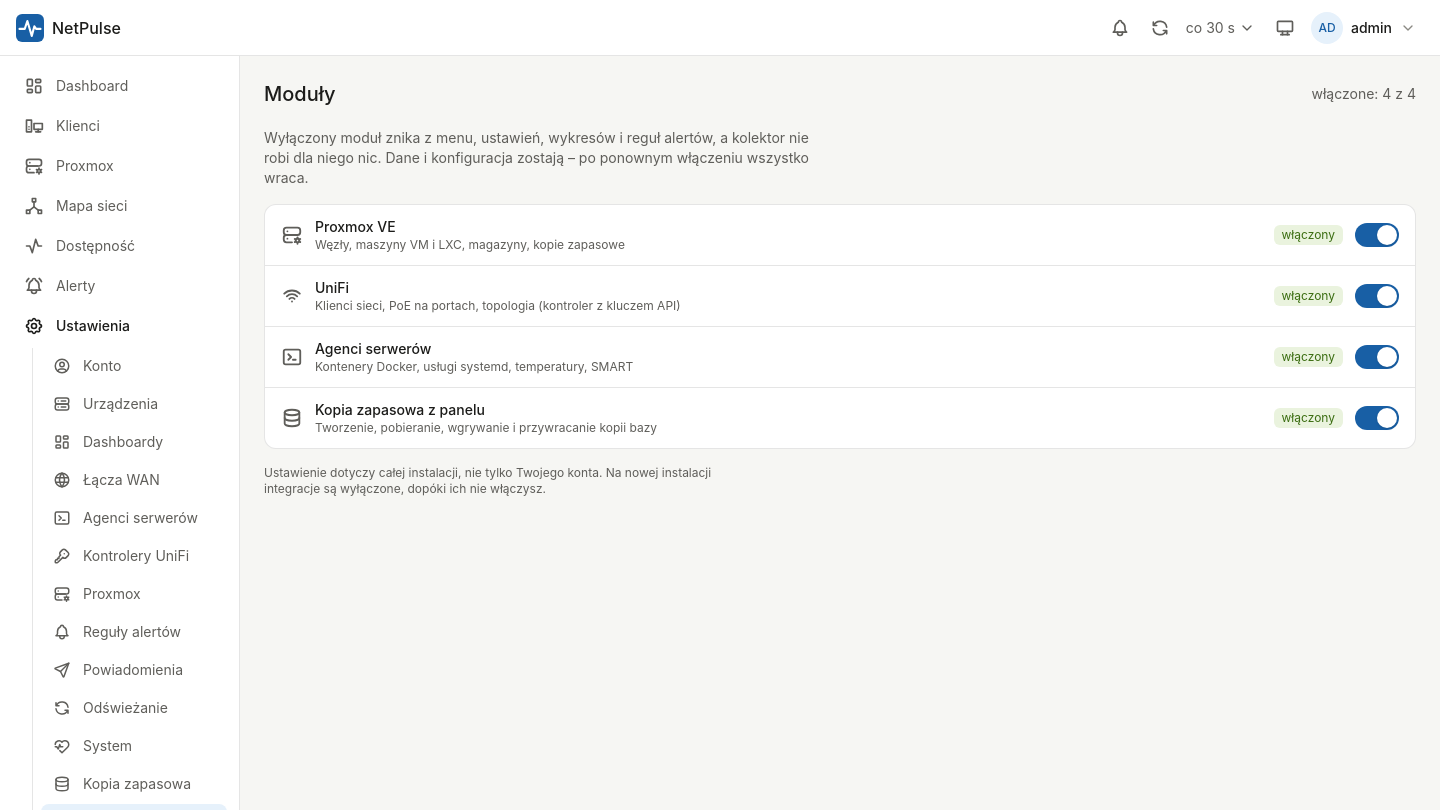
Test: Ustawienia → Moduły › wyłączenie modułu chowa jego pozycje w menu, a włączenie przywraca
This screenshot has width=1440, height=810.
Expected: the number of links "Proxmox" is 2, [24, 156, 114, 176]; [53, 585, 141, 603]
Expected: the text "włączone: 4 z 4" is shown, [1312, 84, 1416, 104]
Click the switch named "Proxmox VE" at (1377, 235), box [1355, 223, 1399, 247]
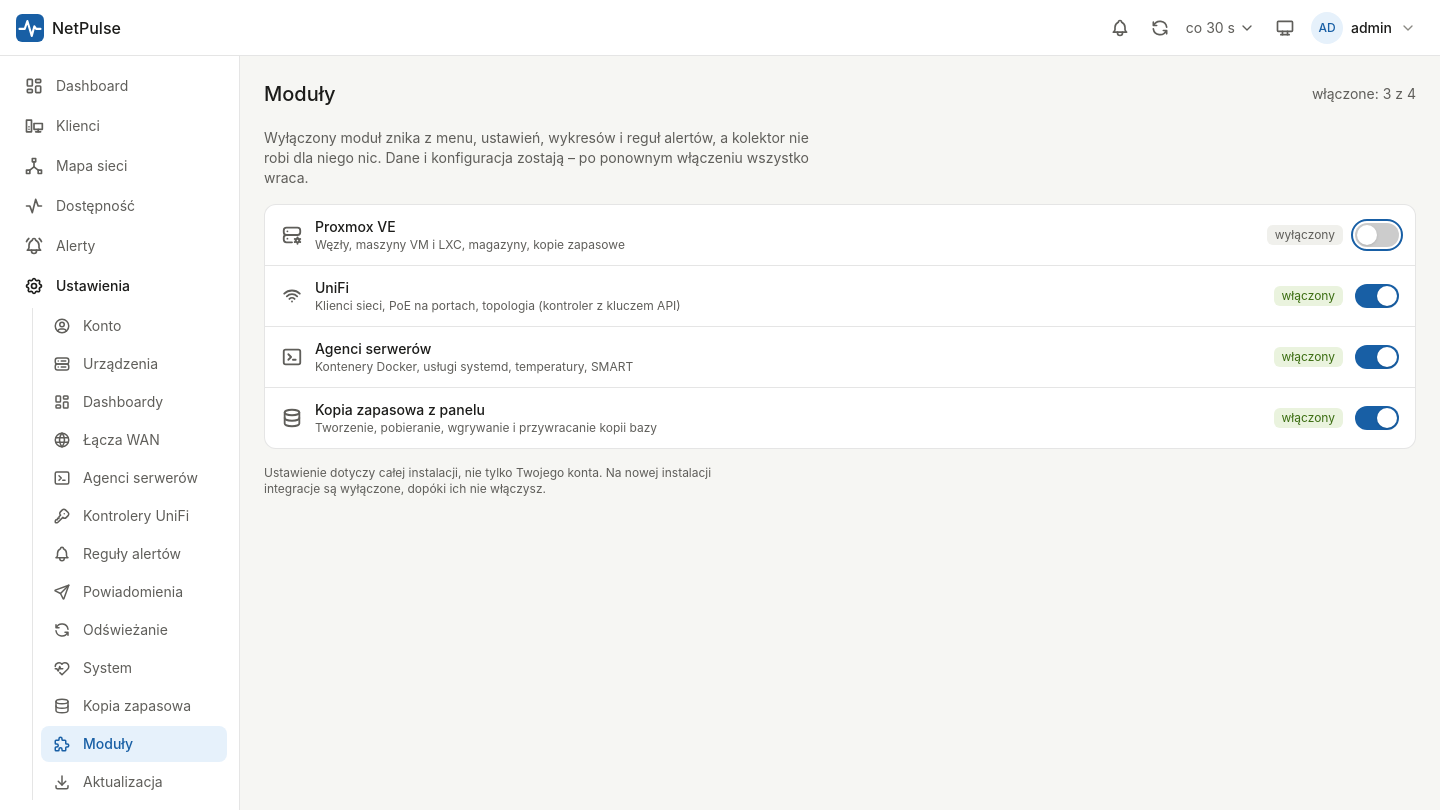
Expected: the link "Klienci" is shown, [24, 116, 100, 136]
Now the text "włączone: 3 z 4" is shown, box [1312, 84, 1416, 104]
Click the switch named "Proxmox VE" at (1377, 235), box [1355, 223, 1399, 247]
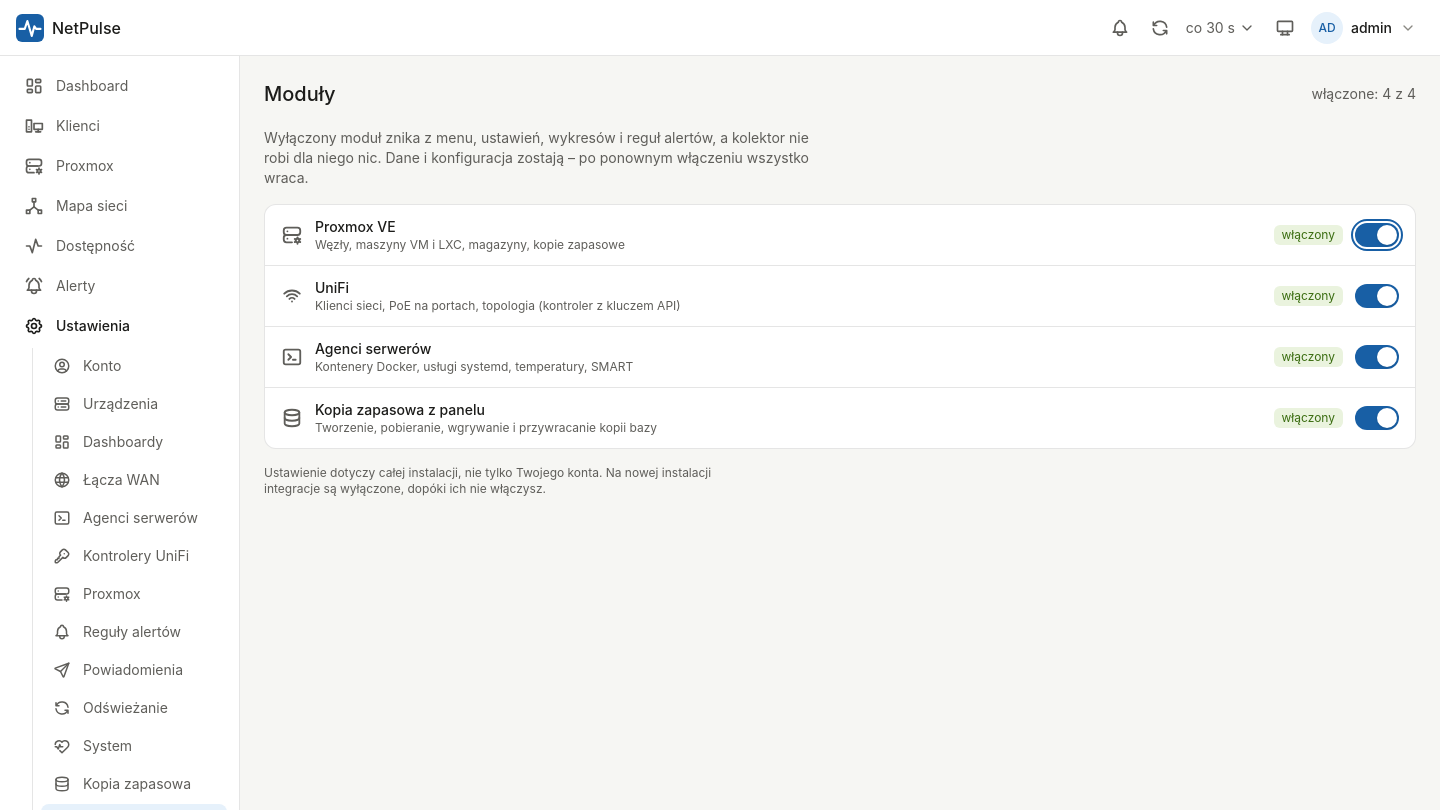
Now the number of links "Proxmox" is 2, box [24, 156, 114, 176]; [53, 585, 141, 603]
